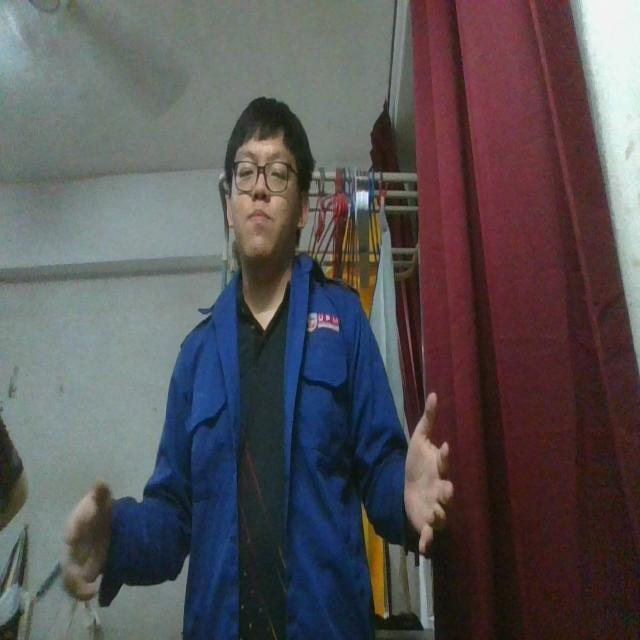person_with_labcoat: (64, 98, 452, 639)
person_without_labcoat: (0, 412, 27, 529)
